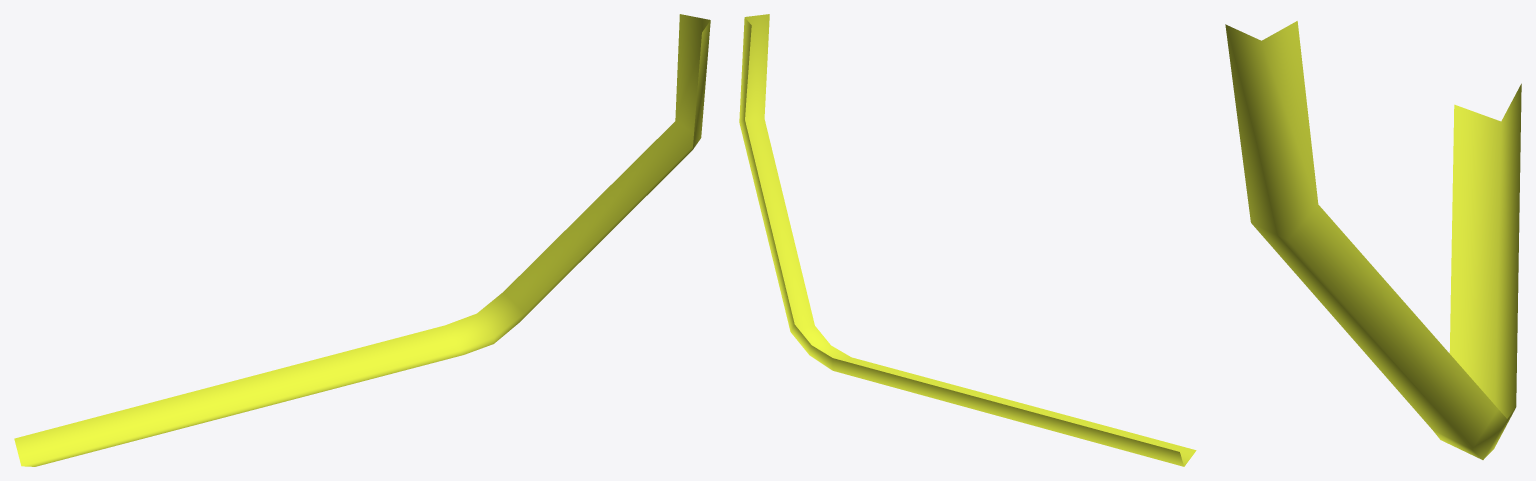
The model's file is b_polySurface628_b_BMW_i8Elite_2_603.glb.
3 views of the same model, side by side, from view 1: azimuth 30°, elevation 25°; view 2: azimuth 150°, elevation 25°; view 3: azimuth 270°, elevation 25° (orthographic). The views are drawn at different scales.
Visible parts, largest first — view 1: b:polySurface628_b:BMW_i8Elite_2017CalliperGloss_Material1_0; view 2: b:polySurface628_b:BMW_i8Elite_2017CalliperGloss_Material1_0; view 3: b:polySurface628_b:BMW_i8Elite_2017CalliperGloss_Material1_0.
Boxes of the visible parts, x1,y1,x2,y2 form: b:polySurface628_b:BMW_i8Elite_2017CalliperGloss_Material1_0: (14,14,710,466); b:polySurface628_b:BMW_i8Elite_2017CalliperGloss_Material1_0: (739,14,1196,466); b:polySurface628_b:BMW_i8Elite_2017CalliperGloss_Material1_0: (1225,21,1521,459).
Bounding box in the file's own units: 0.0793 × 0.0434 × 0.0203.
